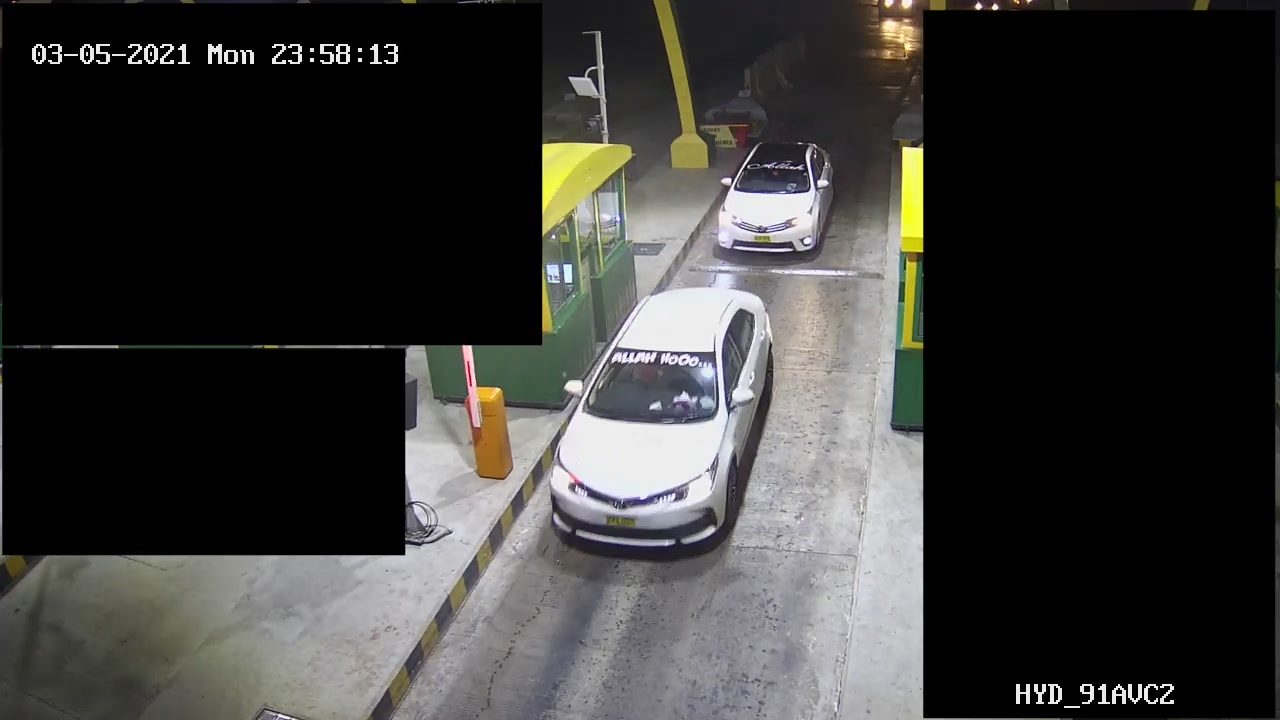F1: (525, 282, 778, 572), (705, 133, 846, 264)
